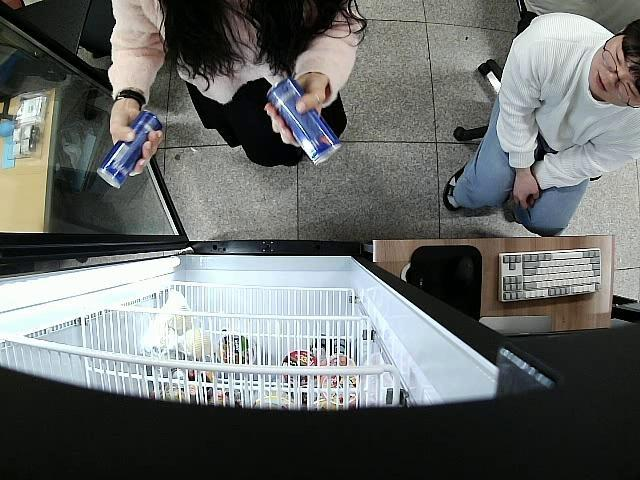16_hot6: (268, 74, 342, 168), (95, 111, 163, 188)
